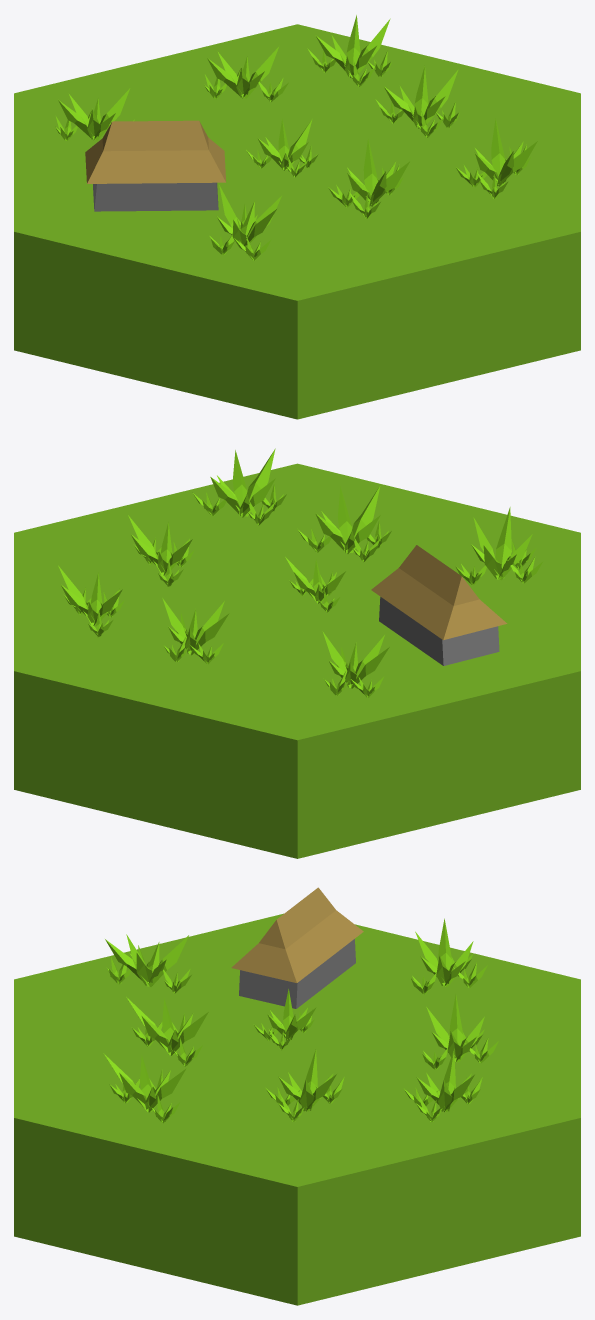
Rendered from Casas_Sabana_1.fbx.
3 views of the same model, one above another, from view 1: azimuth 30°, elevation 25°; view 2: azimuth 150°, elevation 25°; view 3: azimuth 270°, elevation 25° (orthographic).
Visible parts, largest first — view 1: Casas_Sabana_1; view 2: Casas_Sabana_1; view 3: Casas_Sabana_1.
Boxes of the visible parts, bbox=[...] form: Casas_Sabana_1: bbox=[14, 15, 580, 419]; Casas_Sabana_1: bbox=[14, 448, 580, 858]; Casas_Sabana_1: bbox=[14, 887, 580, 1305].
Bounding box in the file's own units: 200 × 65.63 × 173.
